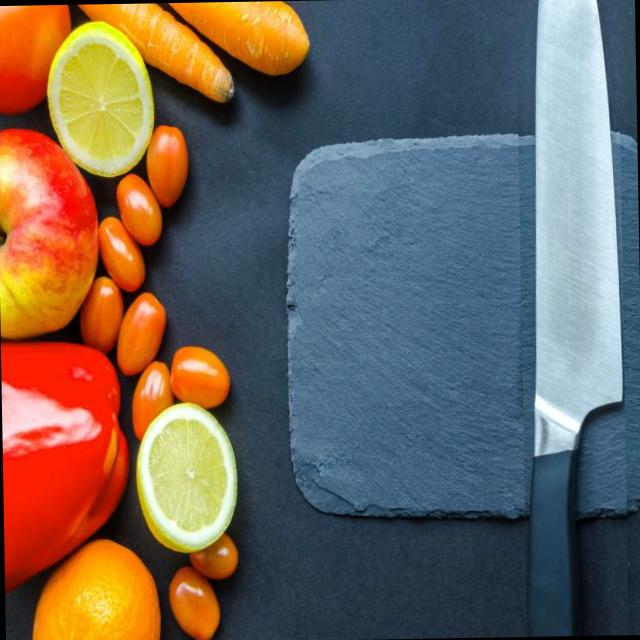Knife: (524, 0, 624, 636)
